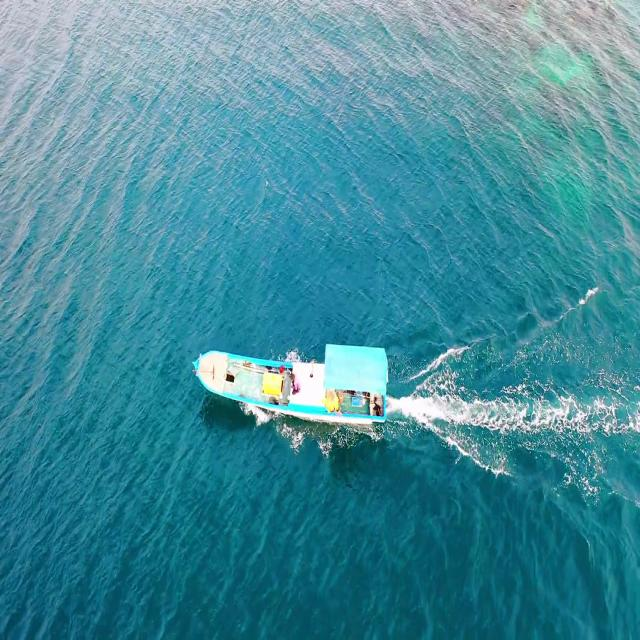ship: (186, 338, 396, 436)
